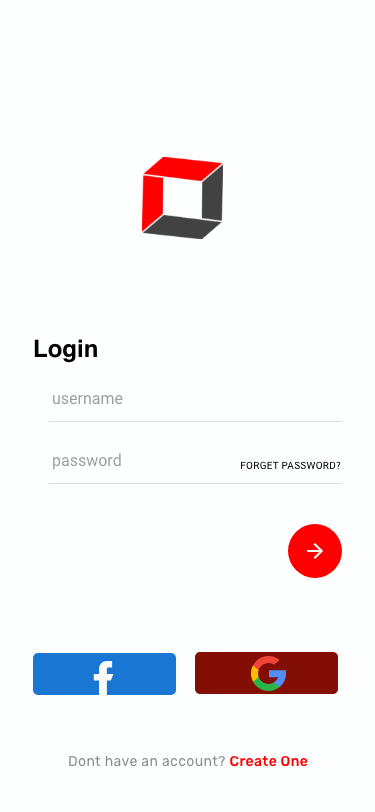EditText: (49, 453, 343, 485), (49, 395, 343, 423)
Icon: (288, 524, 343, 579)
Image: (142, 157, 224, 240)
Text: (69, 755, 308, 767), (35, 339, 99, 363), (53, 453, 122, 470), (241, 461, 341, 470), (53, 395, 124, 405)
TextButton: (195, 652, 339, 695), (33, 653, 177, 696)
